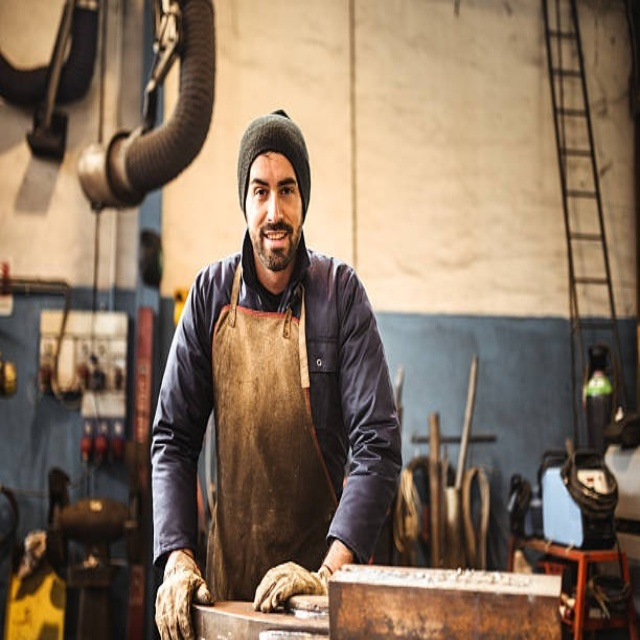Guantes: (156, 550, 214, 639), (254, 561, 330, 612)
Sin_gafas: (250, 168, 297, 209)
Sin_mascara: (259, 221, 291, 259)
